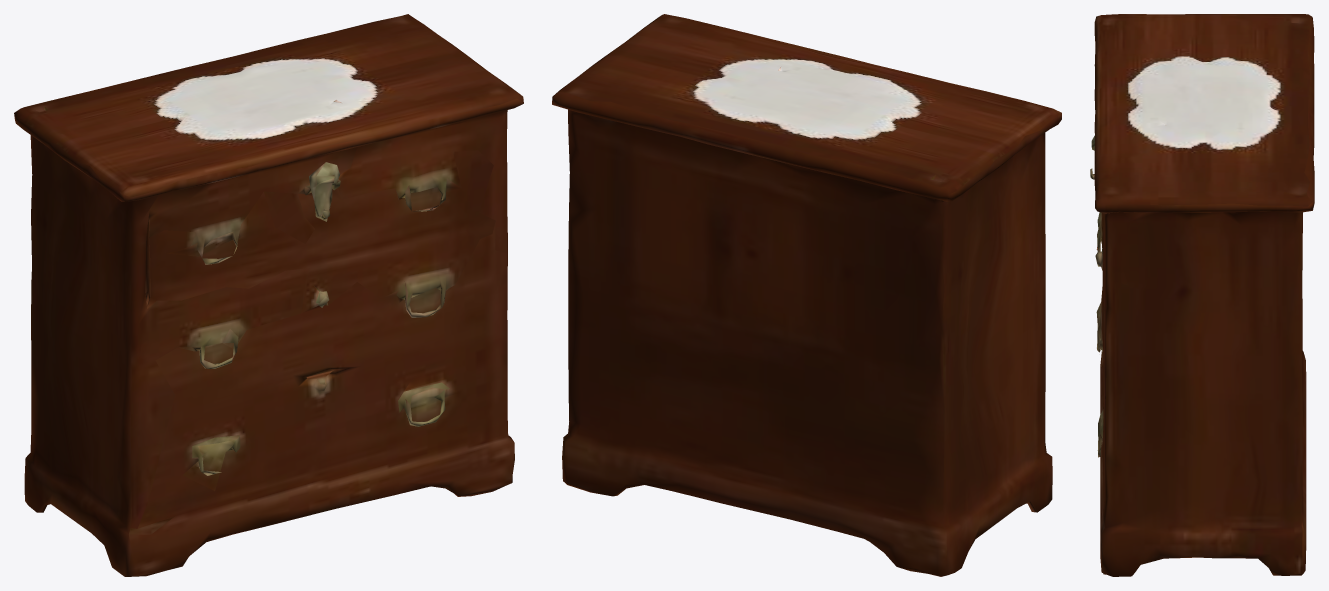
Rendered from comoda.glb.
3 renders of one model, left to right at view 1: azimuth 30°, elevation 25°; view 2: azimuth 150°, elevation 25°; view 3: azimuth 270°, elevation 25°, orthographic. The views are drawn at different scales.
Parts seen in each view (by area): view 1: geometry_0; view 2: geometry_0; view 3: geometry_0.
Part boxes in pixels (x1,y1,x2,y2): geometry_0: (14, 14, 523, 576); geometry_0: (552, 14, 1061, 576); geometry_0: (1090, 14, 1314, 576).
Size of the model in its own units: 1 by 0.95 by 0.5.
1 material, 1 textured.
